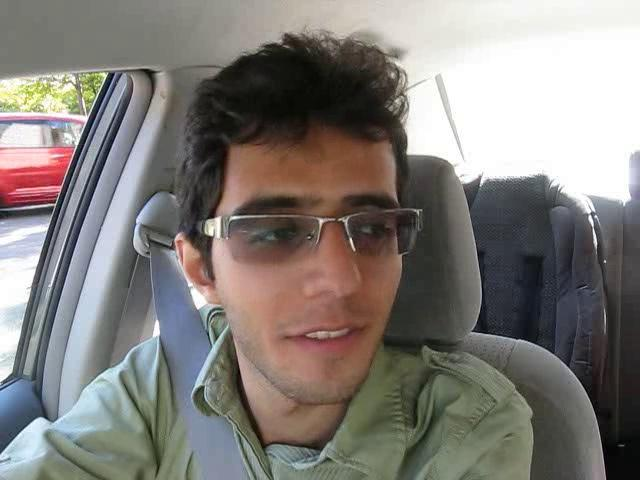no_yawn: (261, 308, 385, 367)
open_eyeL: (229, 209, 319, 259)
open_eyeR: (339, 206, 409, 256)
